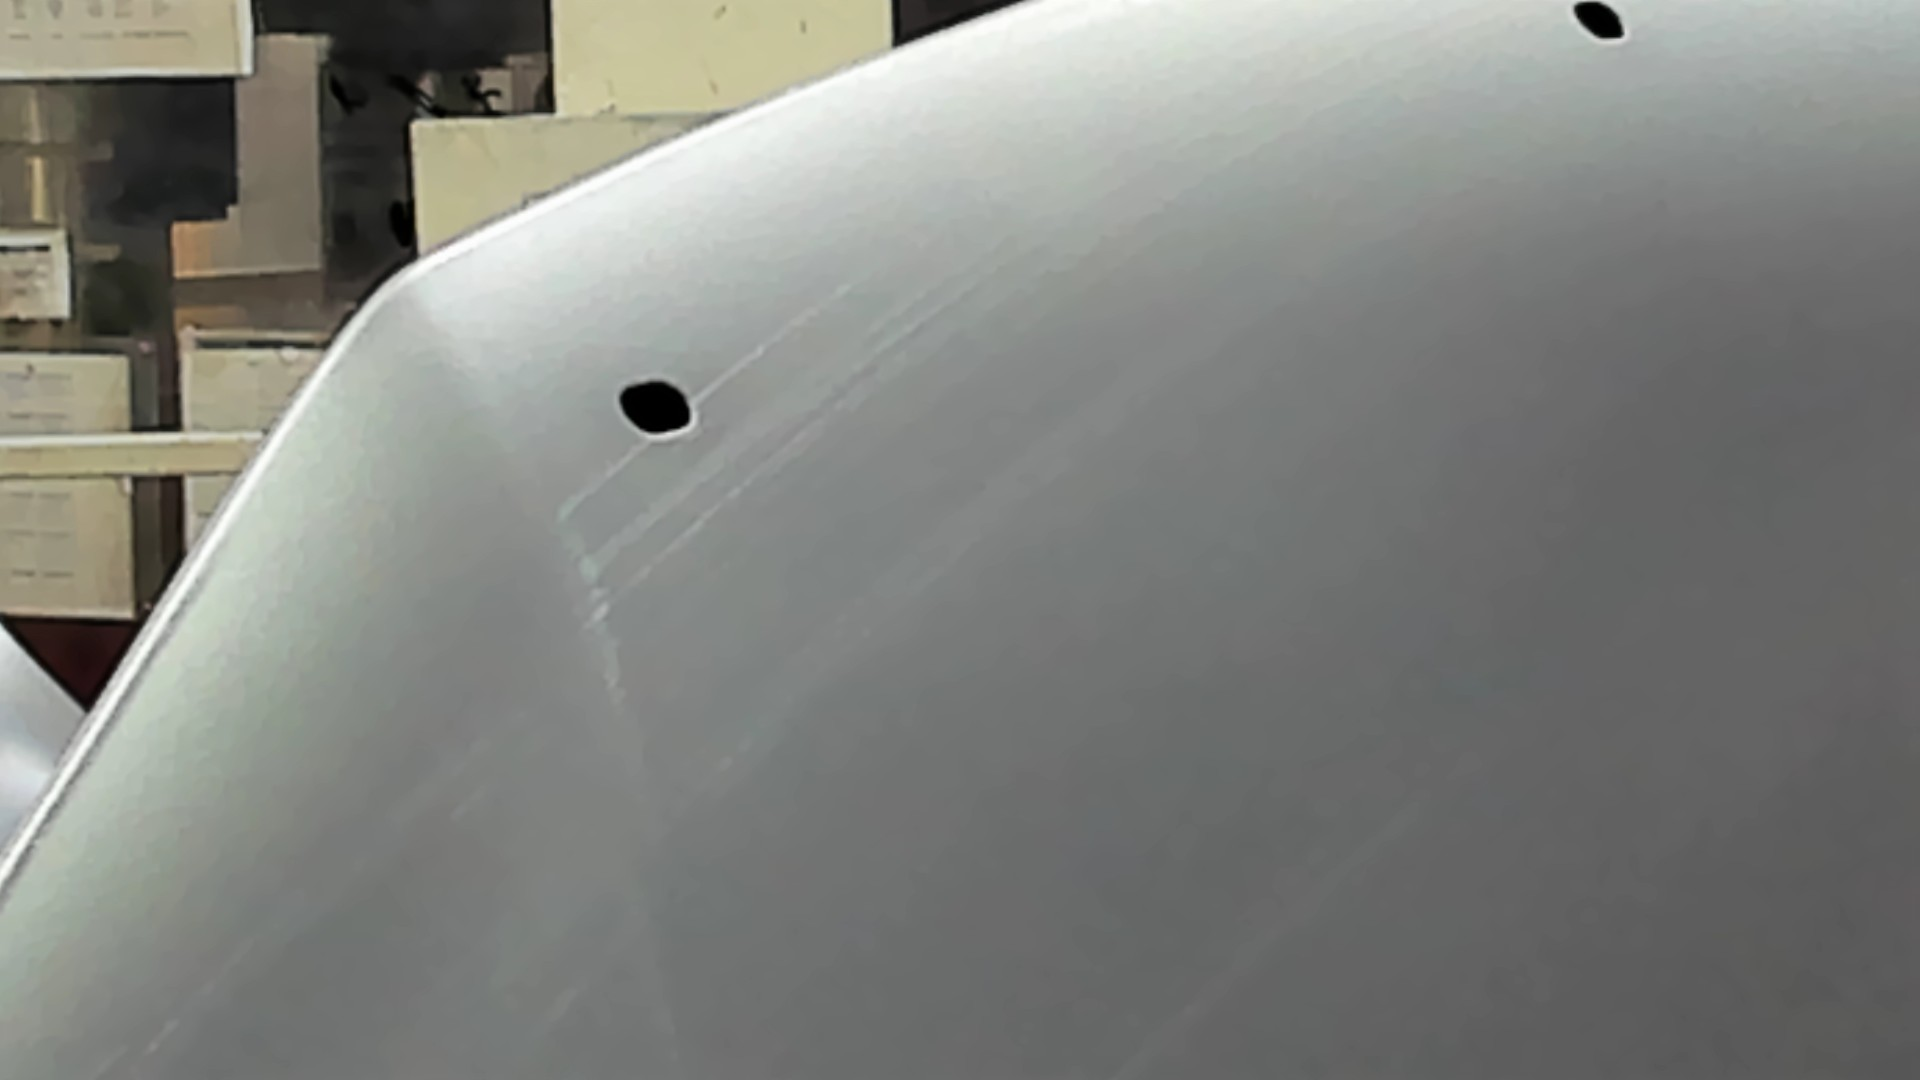amorfo: (615, 375, 696, 442), (1565, 1, 1633, 51)
